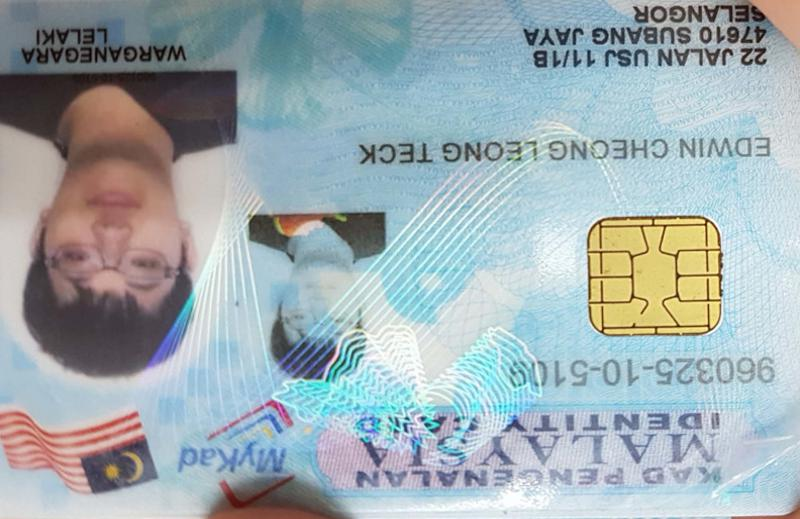hologram: (389, 165, 525, 321)
